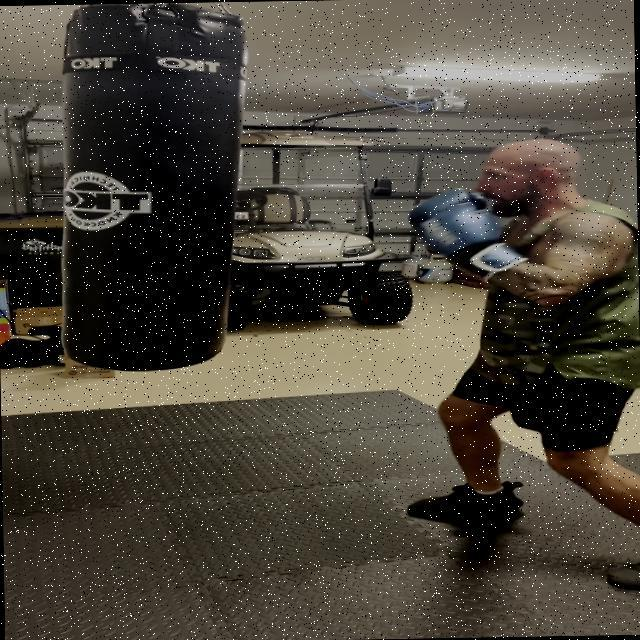no punch: (16, 9, 258, 396)
